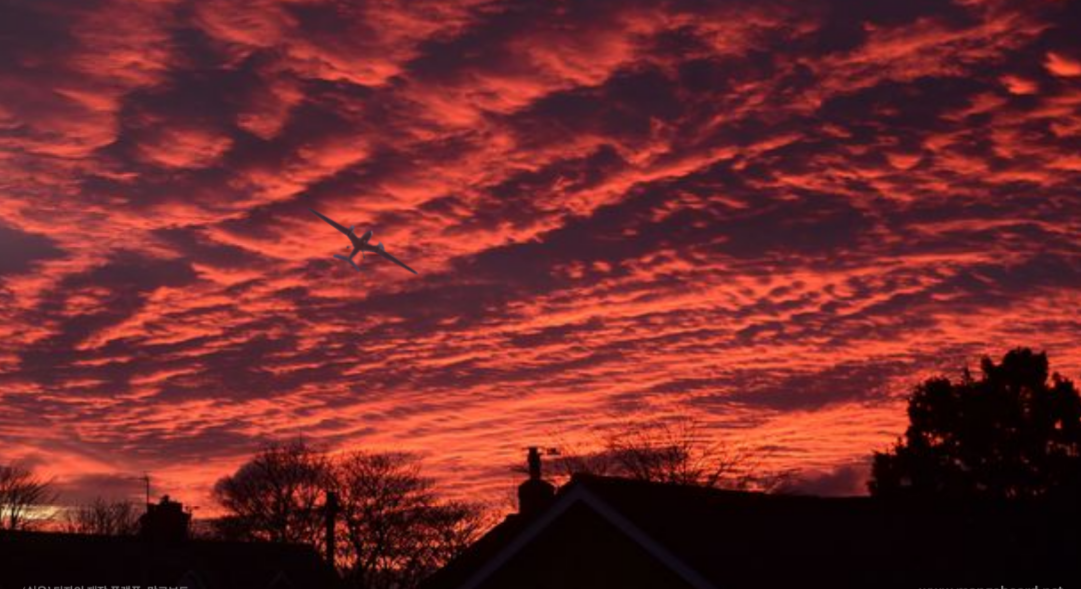military drone: (307, 206, 417, 274)
